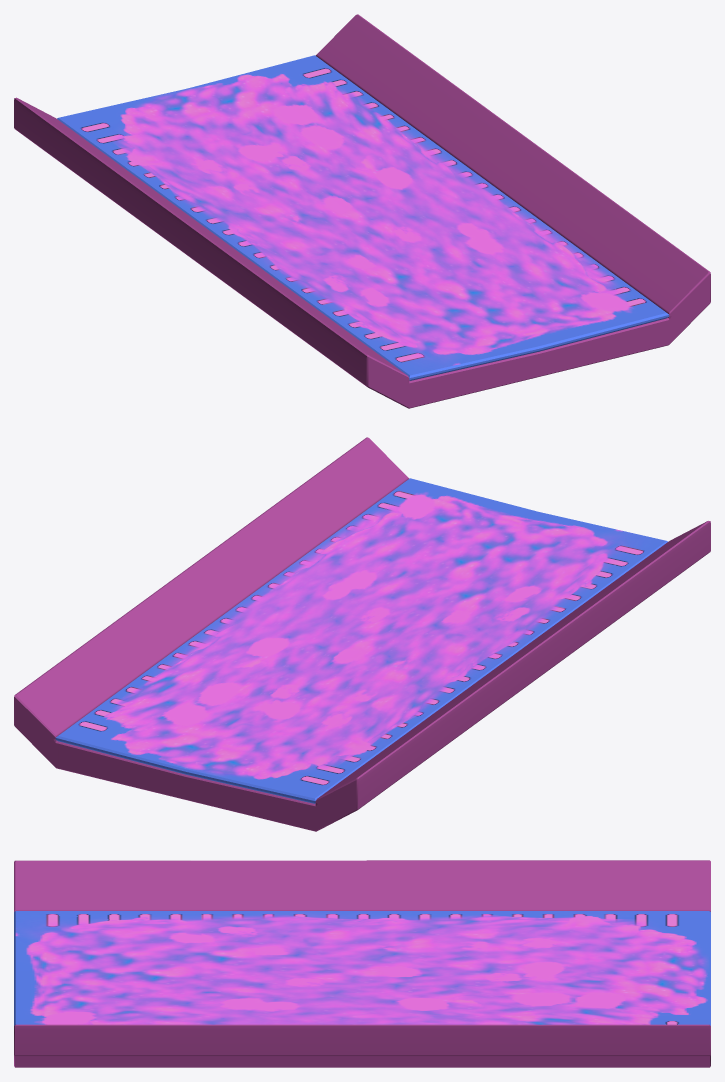
Rendered from PLF0110046.fbx.
The picture shows the model from 3 angles, top to bottom: view 1: azimuth 30°, elevation 25°; view 2: azimuth 150°, elevation 25°; view 3: azimuth 270°, elevation 25°; orthographic projection.
Parts seen in each view (by area): view 1: smPLF0110046; view 2: smPLF0110046; view 3: smPLF0110046.
Part boxes in pixels (left/top/right/bottom): smPLF0110046: left=14, top=14, right=710, bottom=408; smPLF0110046: left=14, top=437, right=710, bottom=831; smPLF0110046: left=14, top=860, right=710, bottom=1067.
Size of the model in its own units: 823 by 144 by 1464.
1 material, 1 textured.
